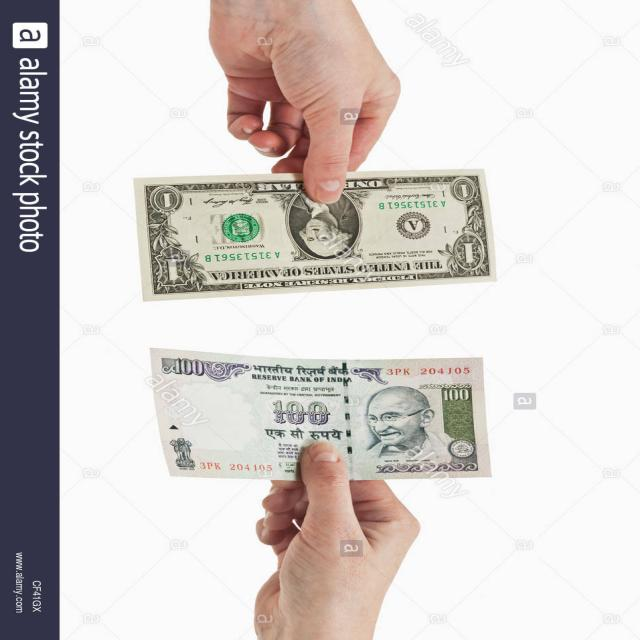100IndianRupees: (149, 349, 484, 476)
